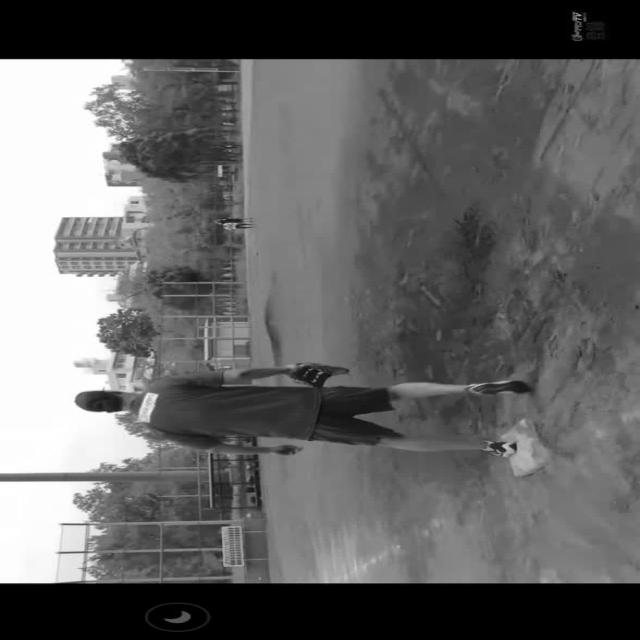base: (502, 420, 552, 478)
baseball_glove: (282, 358, 357, 388)
shoe: (464, 378, 534, 398), (486, 441, 518, 455)
